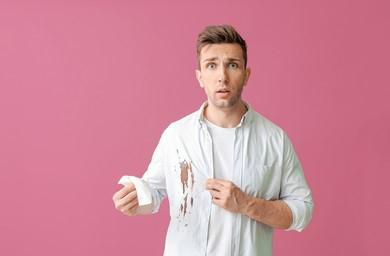gun: (170, 145, 197, 219)
